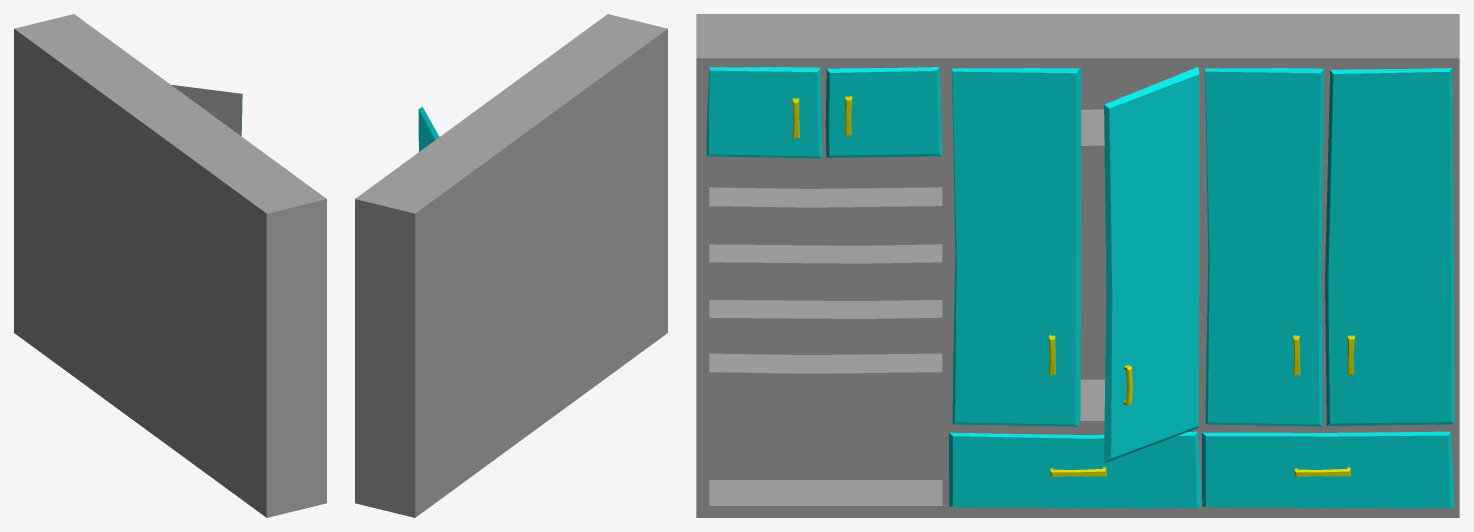
File: BedRoom_Wardrobe.fbx
3 views of the same model, side by side, from view 1: azimuth 30°, elevation 25°; view 2: azimuth 150°, elevation 25°; view 3: azimuth 270°, elevation 25° (orthographic). The views are drawn at different scales.
Visible parts, largest first — view 1: BedRoom_Wardrobe; view 2: BedRoom_Wardrobe; view 3: BedRoom_Wardrobe.
Part boxes in pixels (left/top/right/bottom): BedRoom_Wardrobe: left=14, top=14, right=326, bottom=517; BedRoom_Wardrobe: left=355, top=14, right=667, bottom=517; BedRoom_Wardrobe: left=696, top=14, right=1459, bottom=517.
Bounding box in the file's own units: 136 × 352 × 531.
